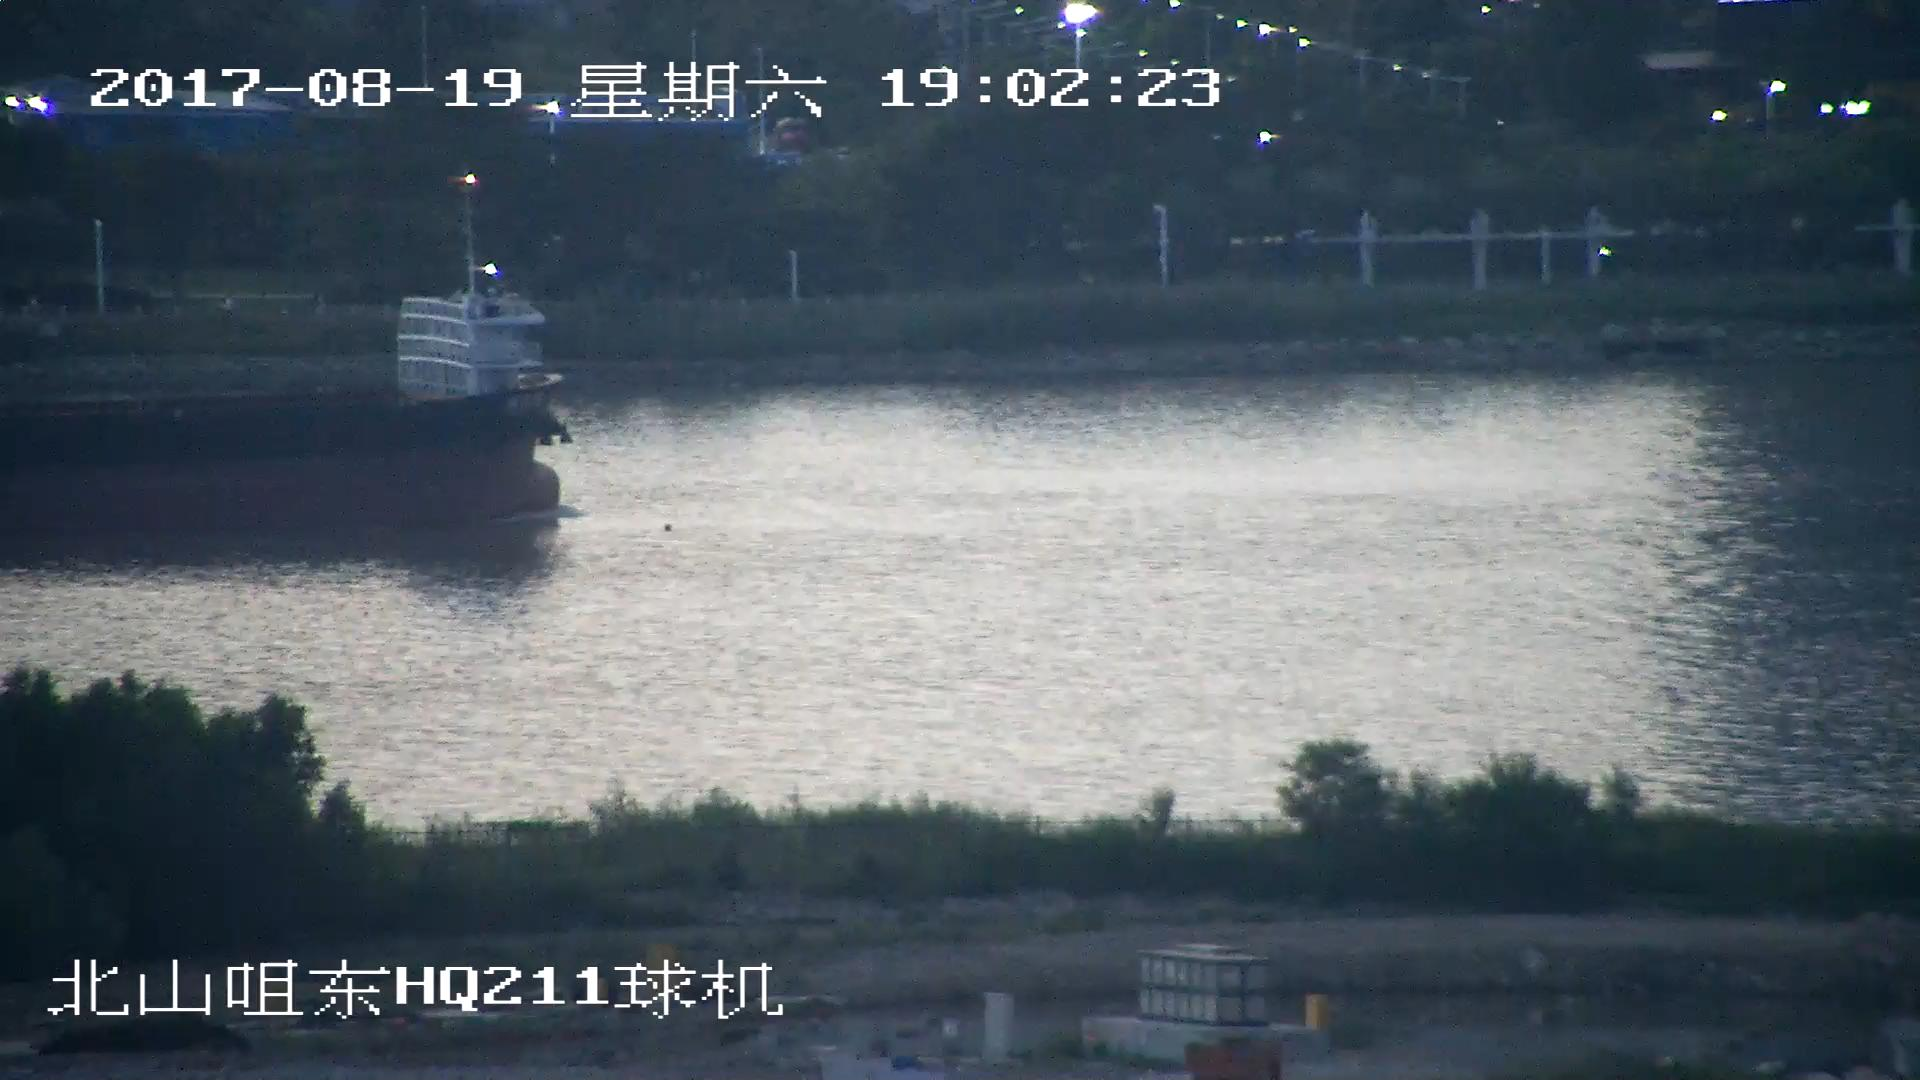general cargo ship: (1, 304, 574, 524)
